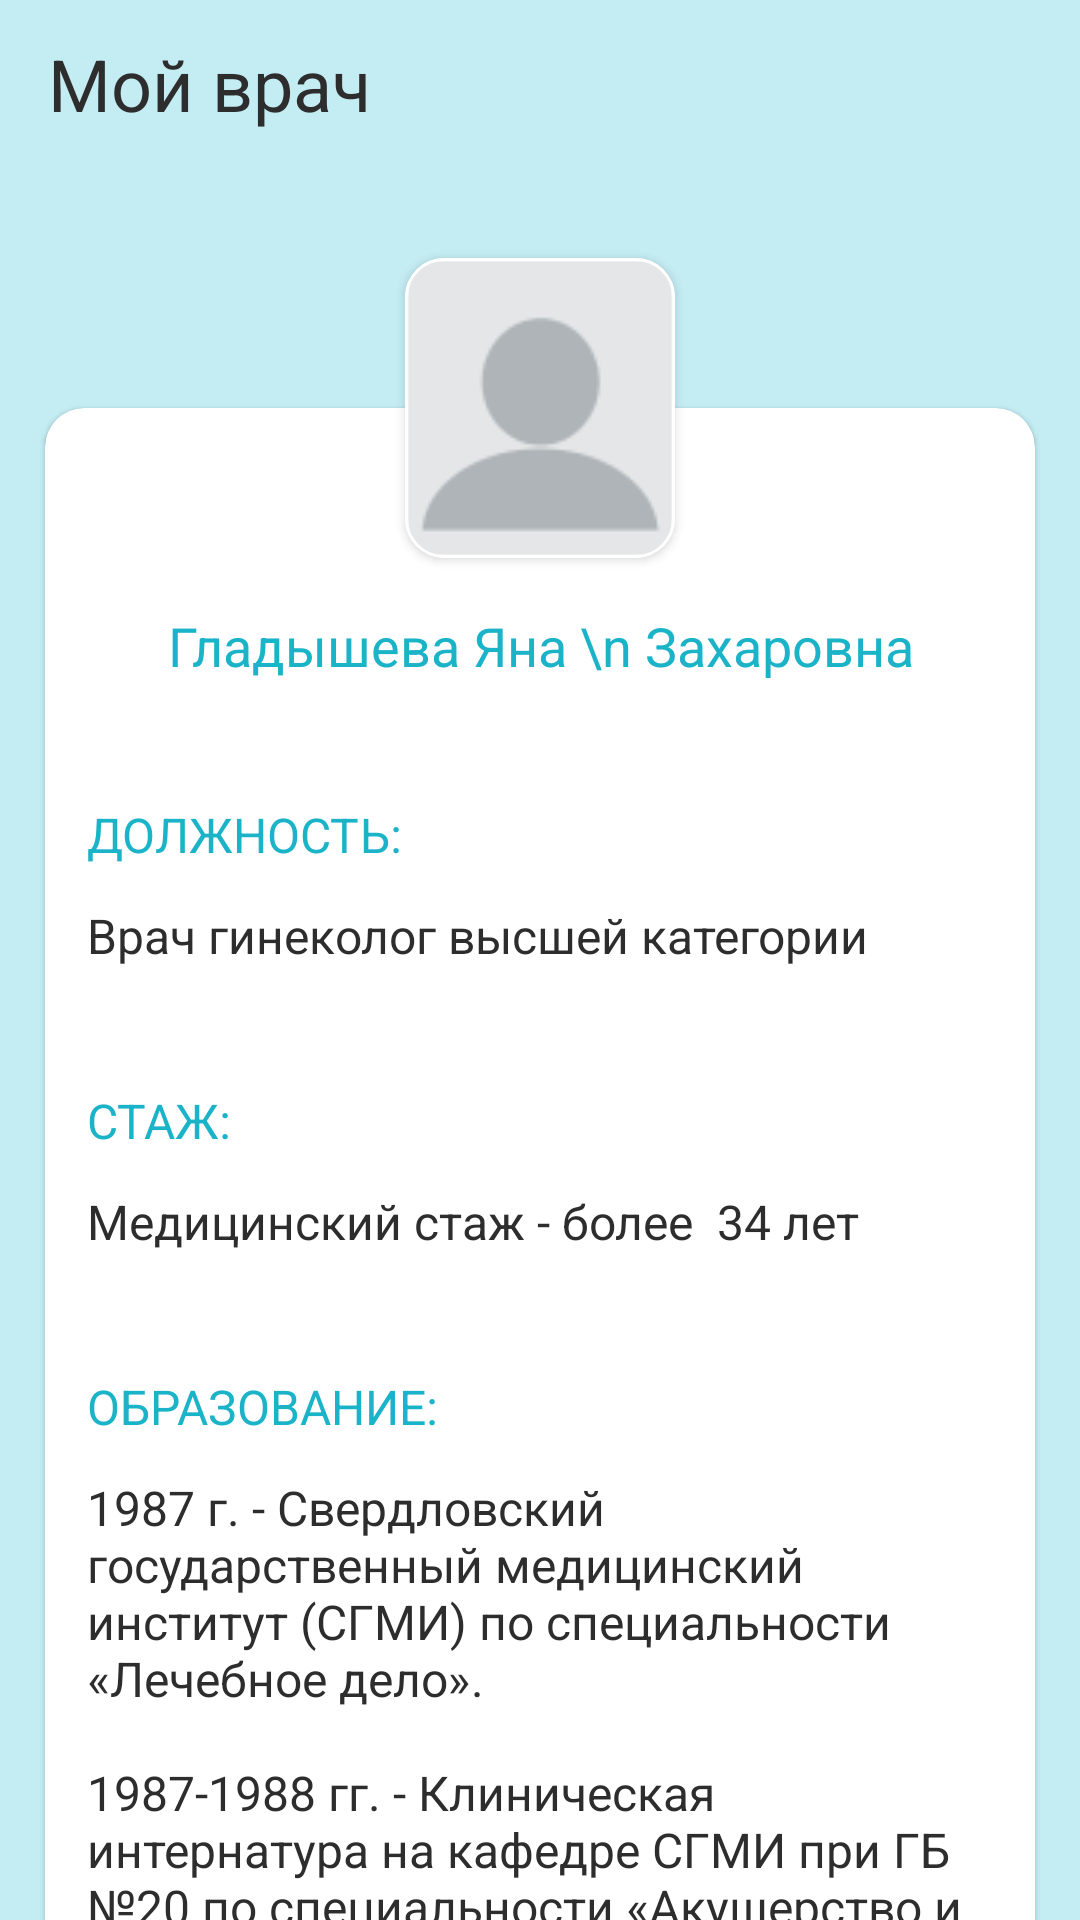

Icons on this 1080 x 1920 Android screen, each with the point to tap as (x,y):
no picture: (540,408)
